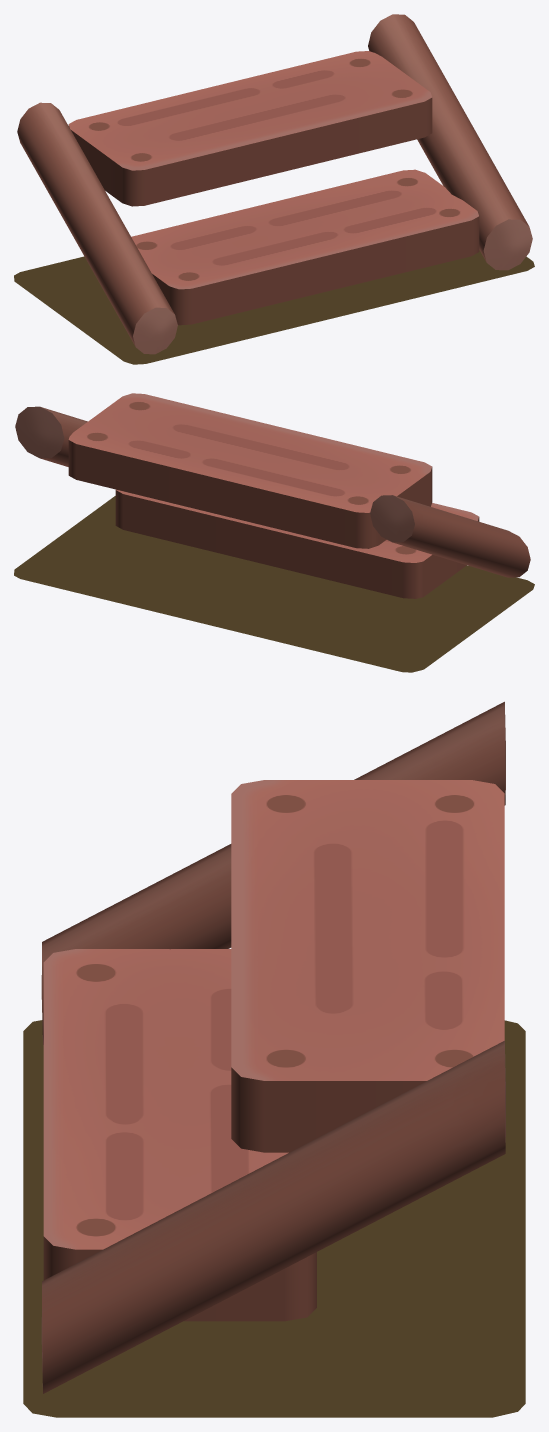
File: Mu_Steps.fbx
3 renders of one model, top to bottom at view 1: azimuth 30°, elevation 25°; view 2: azimuth 150°, elevation 25°; view 3: azimuth 270°, elevation 25°, orthographic. The views are drawn at different scales.
Visible parts, largest first — view 1: Mu_Steps_a, Mu_Steps_shadow; view 2: Mu_Steps_a, Mu_Steps_shadow; view 3: Mu_Steps_a, Mu_Steps_shadow.
Part boxes in pixels (box(x1,y1,x2,y2)): Mu_Steps_a: box(17, 14, 532, 354); Mu_Steps_shadow: box(14, 250, 534, 364); Mu_Steps_a: box(15, 393, 530, 598); Mu_Steps_shadow: box(14, 496, 534, 672); Mu_Steps_a: box(41, 701, 505, 1393); Mu_Steps_shadow: box(23, 1020, 525, 1417).
Bounding box in the file's own units: 207 × 82.95 × 110.
2 materials, 1 textured.
